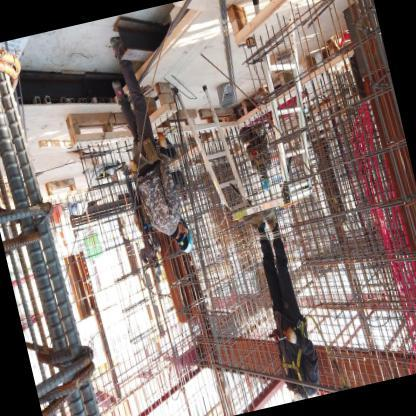safety-shoe: (237, 207, 267, 235), (261, 201, 282, 231), (106, 34, 126, 61), (109, 73, 127, 103)
